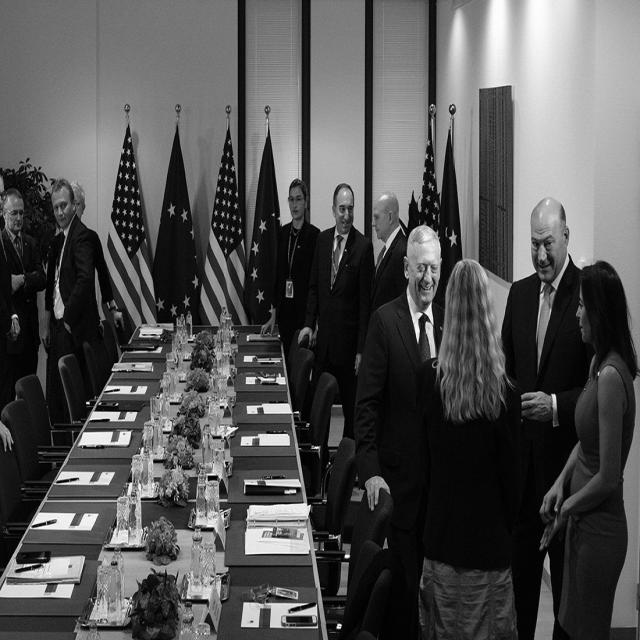body: (396, 255, 534, 639), (351, 223, 447, 640), (539, 259, 640, 640), (500, 196, 586, 640), (297, 180, 376, 440), (44, 175, 100, 447), (259, 176, 322, 374), (1, 188, 47, 403), (69, 178, 126, 333), (366, 189, 408, 320), (0, 172, 22, 409), (0, 420, 14, 455)
